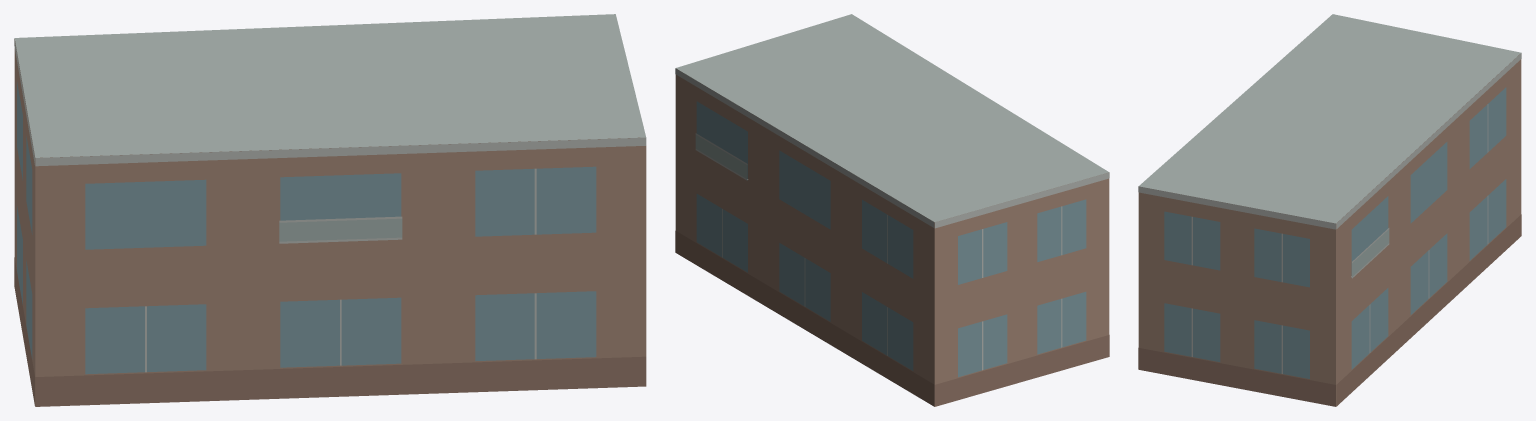
The model's file is survey-upis-32626134.glb.
3 renders of one model, left to right at view 1: azimuth 30°, elevation 25°; view 2: azimuth 150°, elevation 25°; view 3: azimuth 270°, elevation 25°, orthographic. The views are drawn at different scales.
Visible parts, largest first — view 1: survey-upis-32626134.tmp; view 2: survey-upis-32626134.tmp; view 3: survey-upis-32626134.tmp.
Boxes of the visible parts, x1,y1,x2,y2 form: survey-upis-32626134.tmp: [14, 14, 646, 406]; survey-upis-32626134.tmp: [675, 14, 1109, 406]; survey-upis-32626134.tmp: [1138, 14, 1521, 406].
Size of the model in its own units: 17.9 by 7.3 by 13.83.
